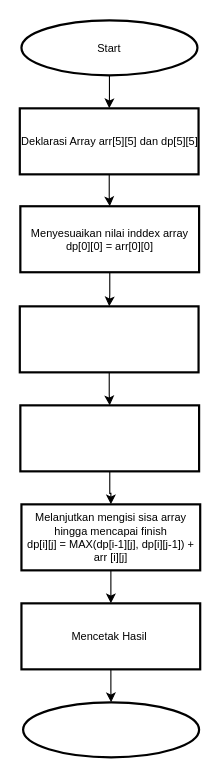
This 220x777 diagram has some shape labels left out. The shapes that lost their labels are listed below. From the top down, each one's centre as x and y in pixels, then its label:
At (108,339): "Mengisi baris pertama dp[0][j] = dp[0][j-1] + arr[0][j]".
At (109,438): "Mengisi kolom pertama dp[i][0] = dp[i-1][0] + arr[i][0]".
At (110,729): "End".
